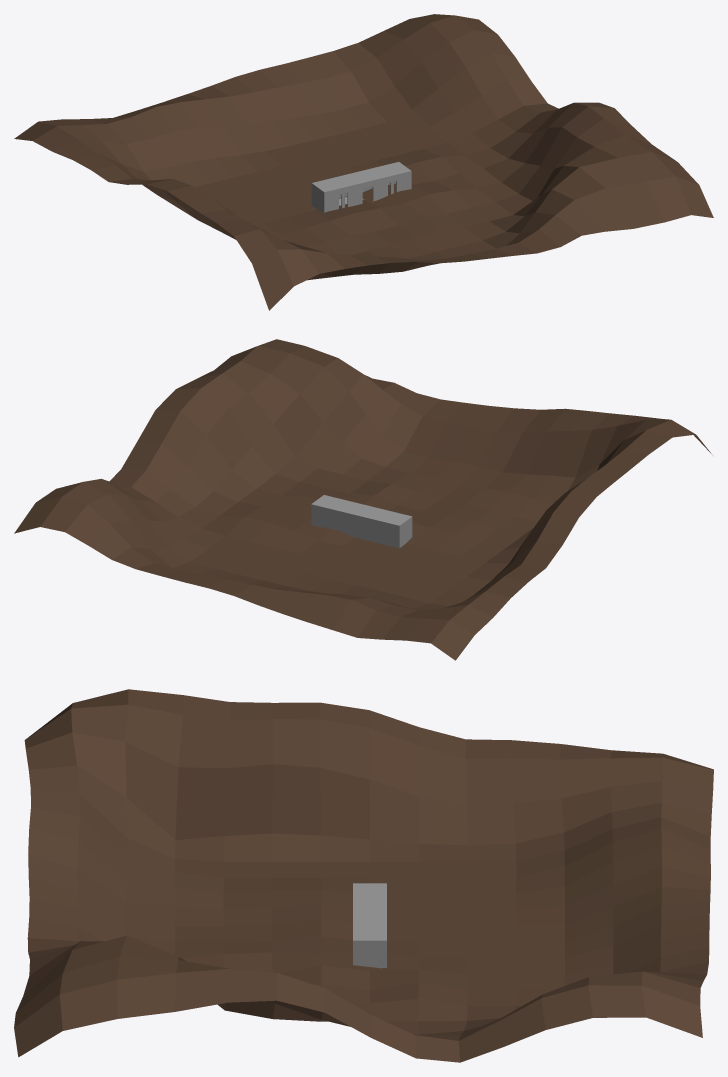
The picture shows the model from 3 angles, top to bottom: view 1: azimuth 30°, elevation 25°; view 2: azimuth 150°, elevation 25°; view 3: azimuth 270°, elevation 25°; orthographic projection. The views are drawn at different scales.
Visible parts, largest first — view 1: Plane, Cube; view 2: Plane, Cube; view 3: Plane, Cube.
Boxes of the visible parts, x1,y1,x2,y2 form: Plane: (14, 14, 713, 310); Cube: (311, 162, 411, 212); Plane: (14, 339, 711, 660); Cube: (311, 495, 412, 548); Plane: (14, 689, 713, 1062); Cube: (353, 883, 386, 968).
Bounding box in the file's own units: 202 × 36.32 × 205.
